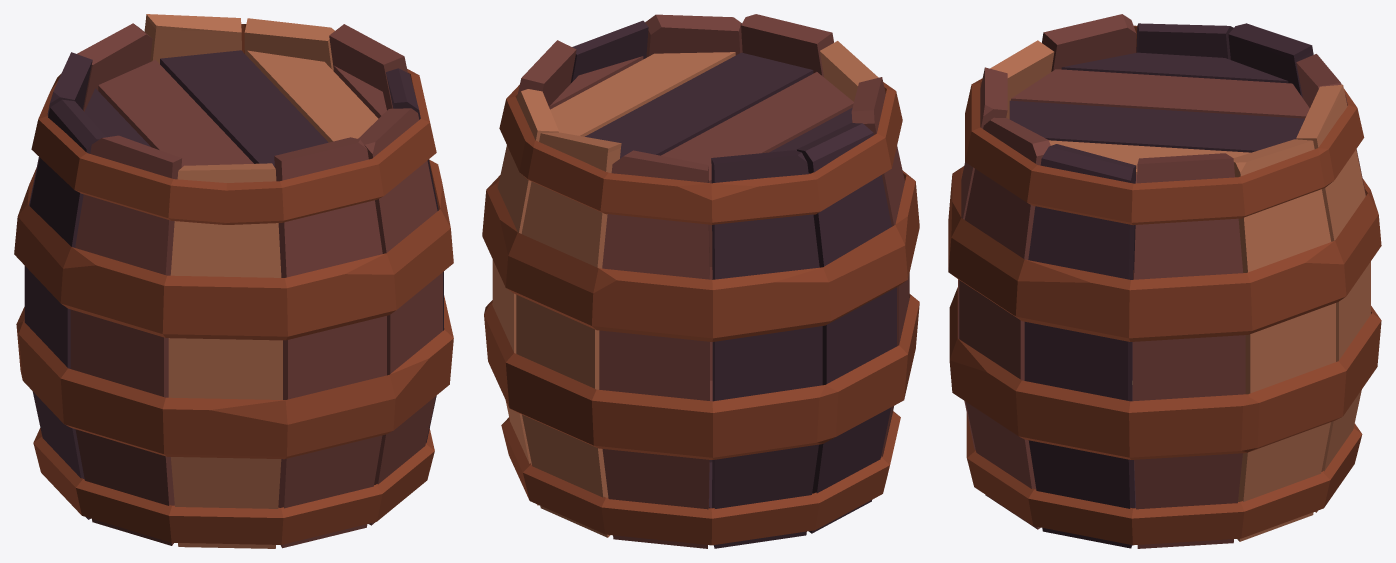
The model's file is Barrel 1_12.fbx.
3 renders of one model, left to right at view 1: azimuth 30°, elevation 25°; view 2: azimuth 150°, elevation 25°; view 3: azimuth 270°, elevation 25°, orthographic.
Visible parts, largest first — view 1: Barrel 1_12; view 2: Barrel 1_12; view 3: Barrel 1_12.
Boxes of the visible parts, x1,y1,x2,y2 form: Barrel 1_12: (14, 14, 453, 548); Barrel 1_12: (482, 14, 919, 548); Barrel 1_12: (948, 14, 1381, 548).
Size of the model in its own units: 92.04 by 90.18 by 91.1.
